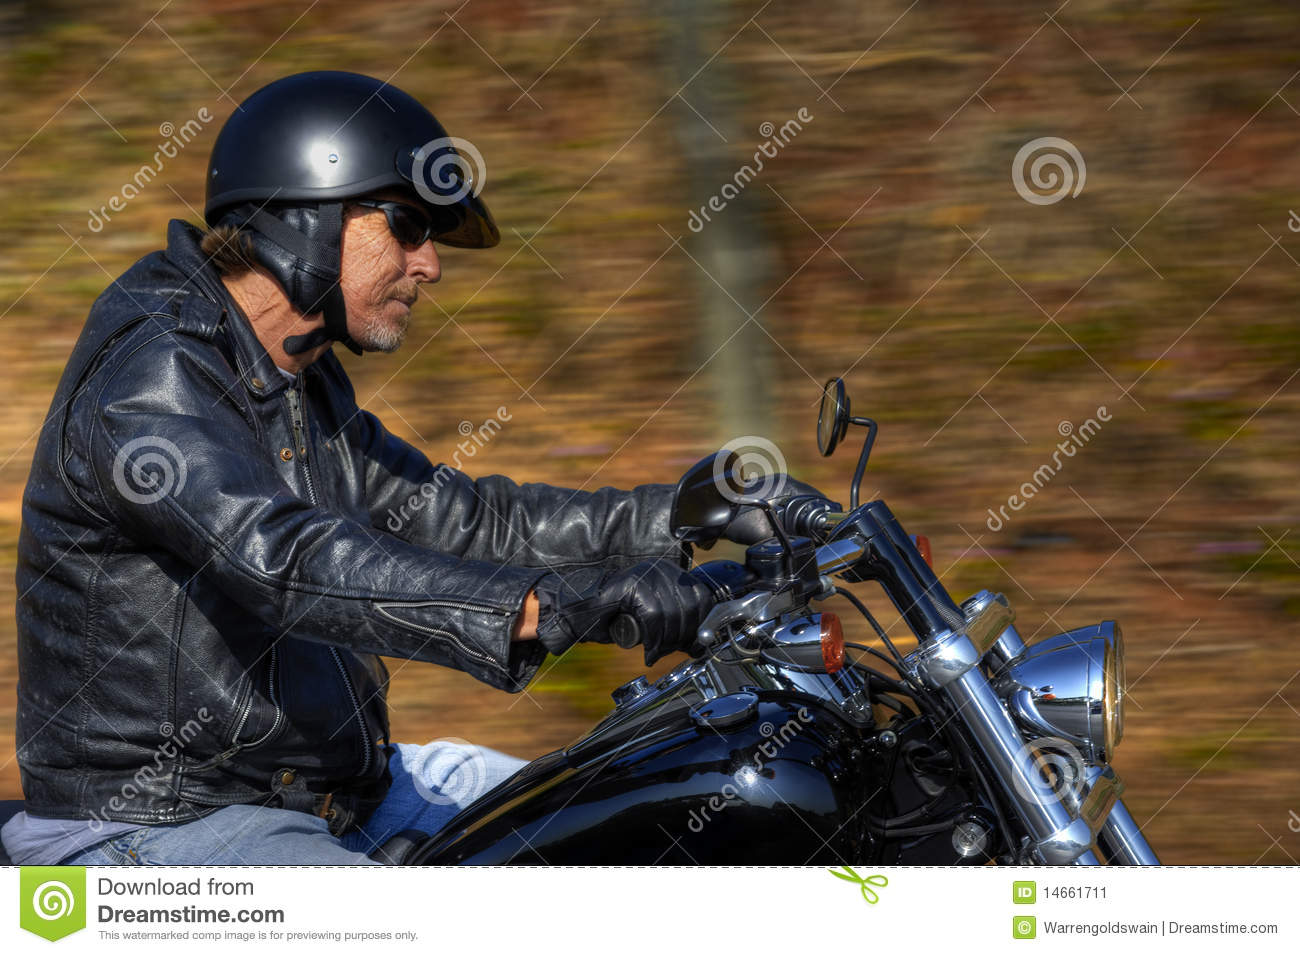helmet: (189, 51, 485, 281)
